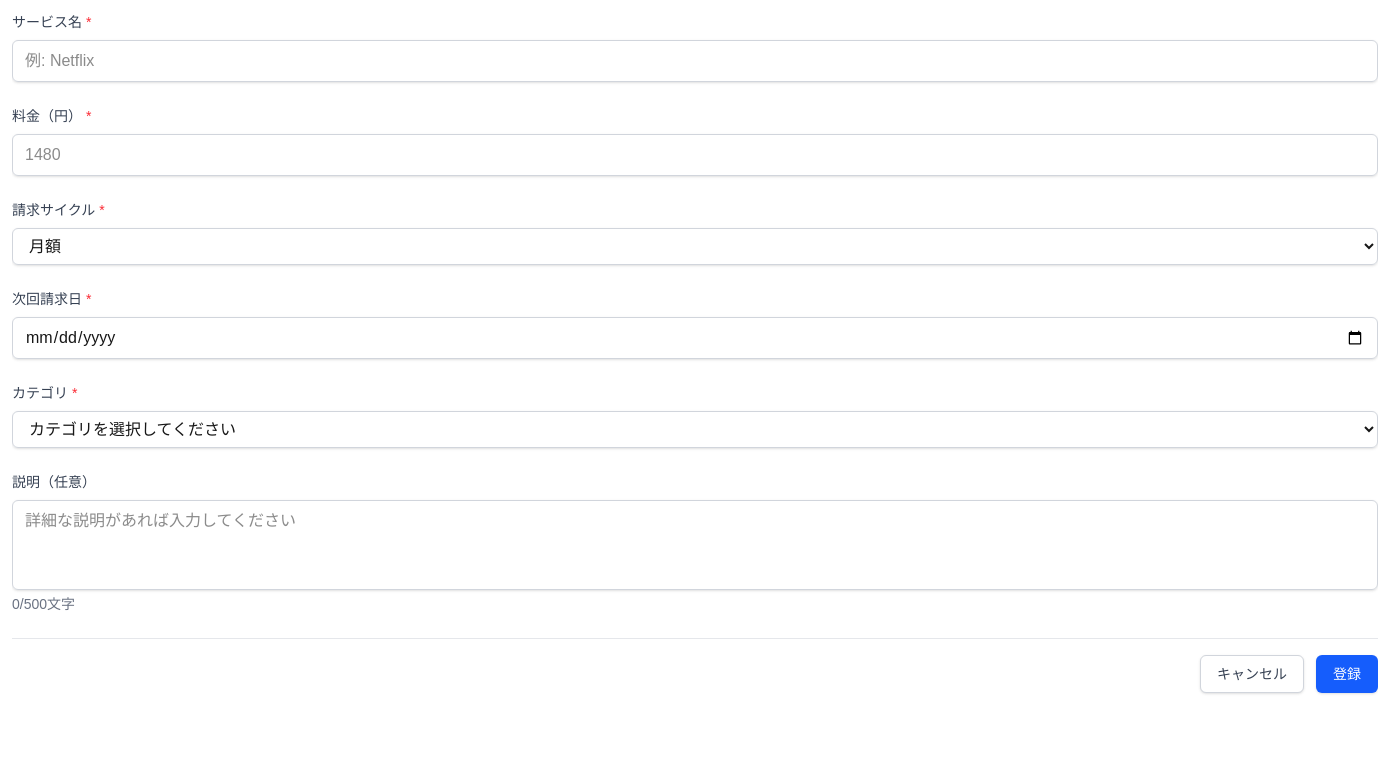
Test case: SubscriptionFormWithZod › バリデーション › 金額の範囲エラーが表示される
This screenshot has width=1390, height=780.
In the number field labelled "料金（円） *": (695, 155) [12,134,1378,176], type "10000001"
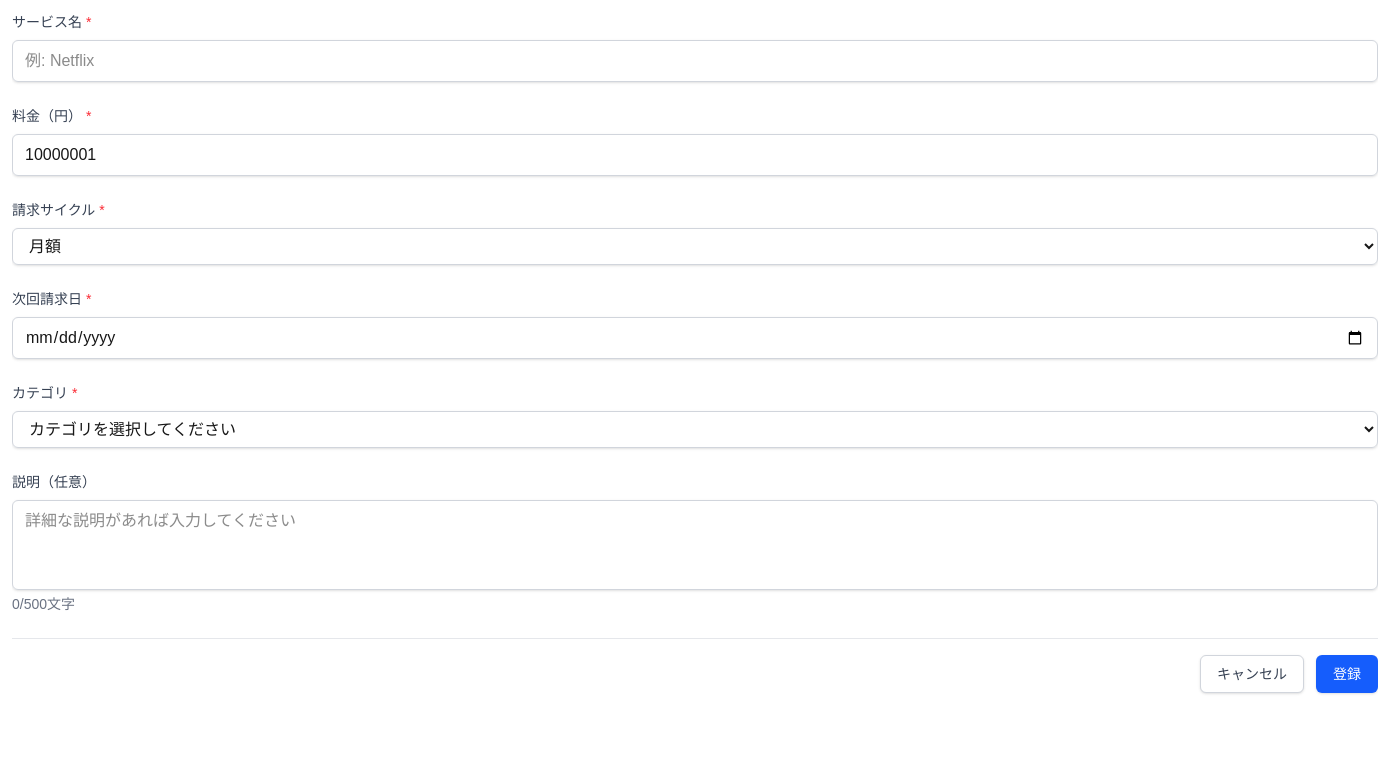
Leave the number field labelled "料金（円） *", box [12,134,1378,176]
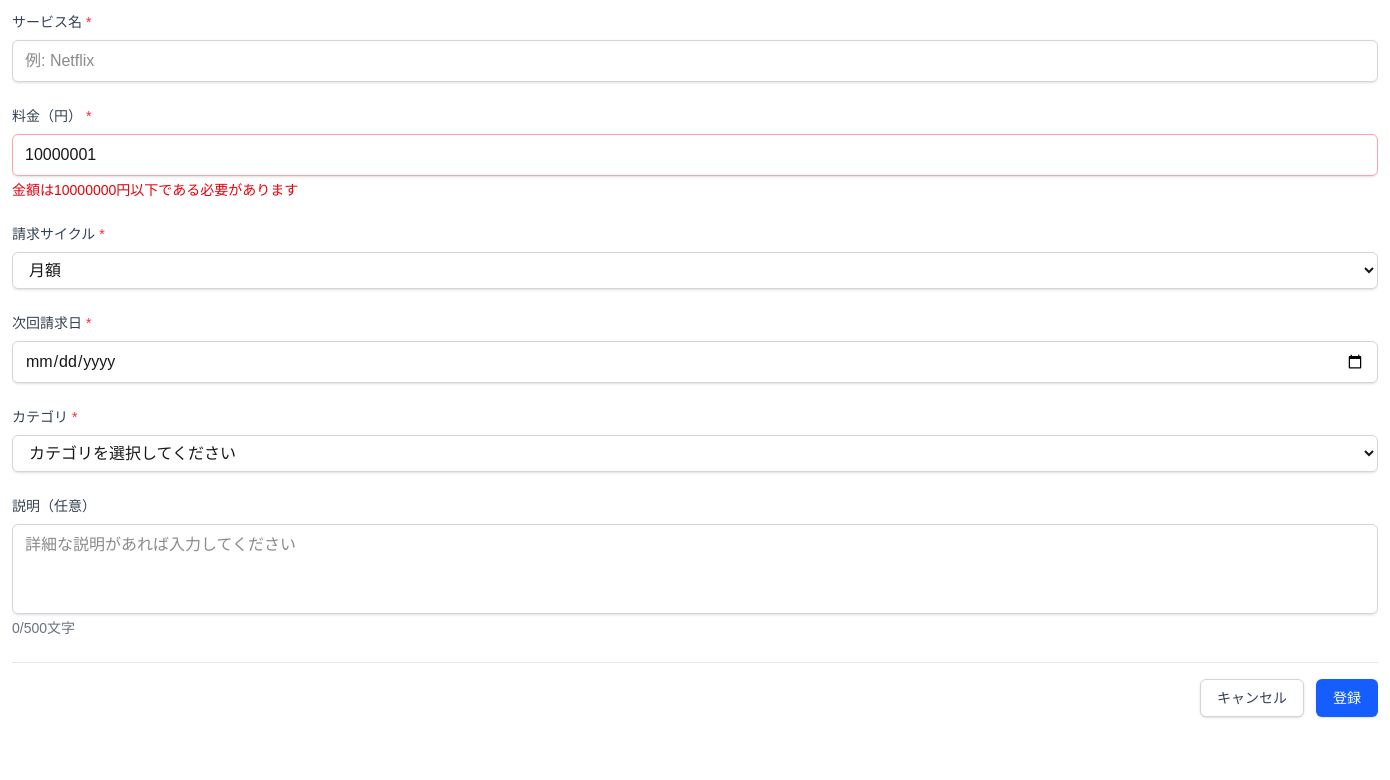
Now the text "金額は10000000円以下である必要があります" is shown, box [12,182,298,198]
